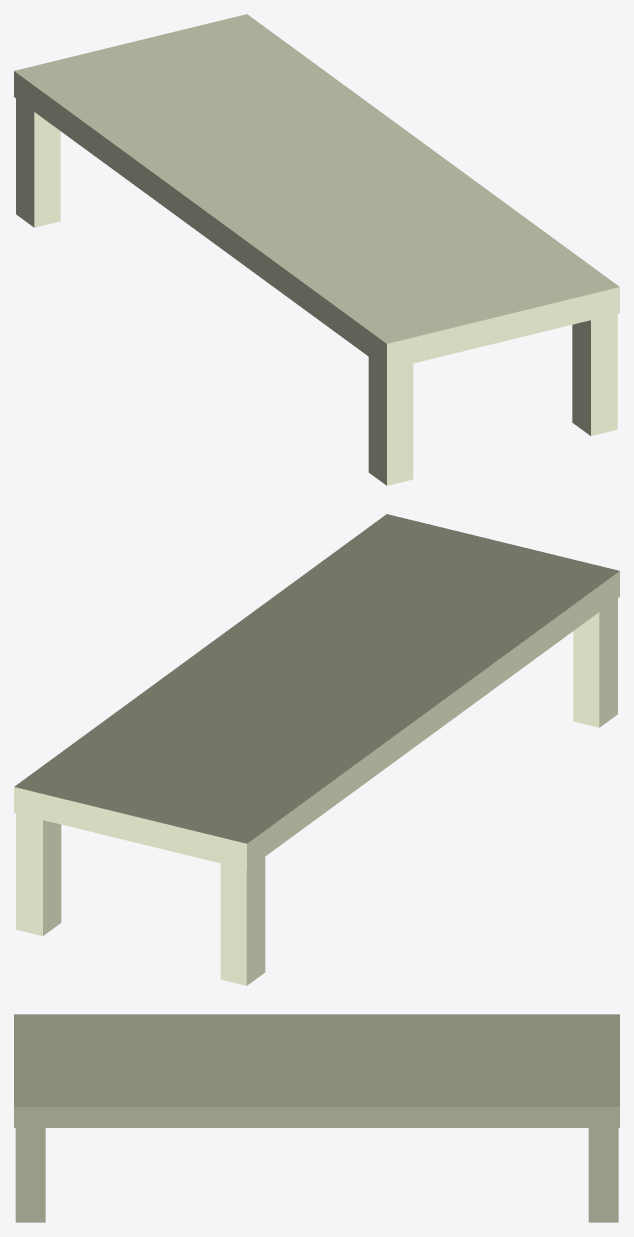
Rendered from hotl_kitchen_table.FBX.
3 renders of one model, top to bottom at view 1: azimuth 30°, elevation 25°; view 2: azimuth 150°, elevation 25°; view 3: azimuth 270°, elevation 25°, orthographic. The views are drawn at different scales.
Parts seen in each view (by area): view 1: kitchen_table; view 2: kitchen_table; view 3: kitchen_table.
Boxes of the visible parts, x1=… form: kitchen_table: x1=14, y1=14, x2=619, y2=485; kitchen_table: x1=14, y1=514, x2=619, y2=985; kitchen_table: x1=14, y1=1014, x2=619, y2=1222.
Size of the model in its own units: 1.54 by 0.903 by 4.27.
